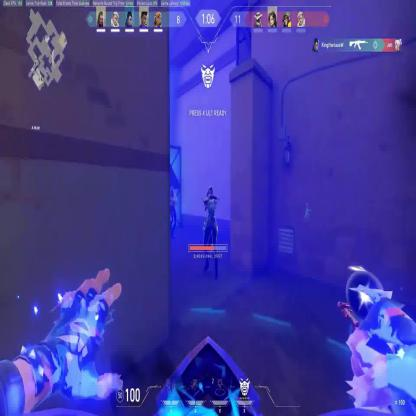enemy: (201, 184, 220, 280), (167, 186, 177, 239)
enemy_head: (206, 186, 213, 200), (170, 186, 174, 198)
